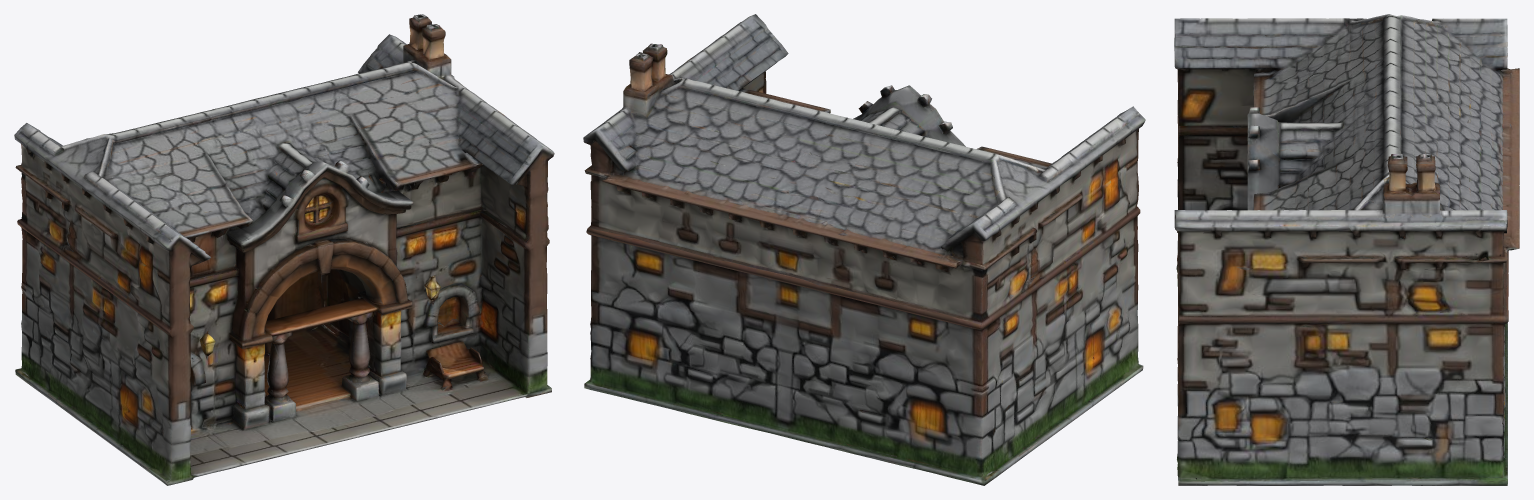
The model's file is Dwareven Building #17_final.glb.
3 views of the same model, side by side, from view 1: azimuth 30°, elevation 25°; view 2: azimuth 150°, elevation 25°; view 3: azimuth 270°, elevation 25° (orthographic). The views are drawn at different scales.
Size of the model in its own units: 1.91 by 1.4 by 1.36.
1 material, 1 textured.
